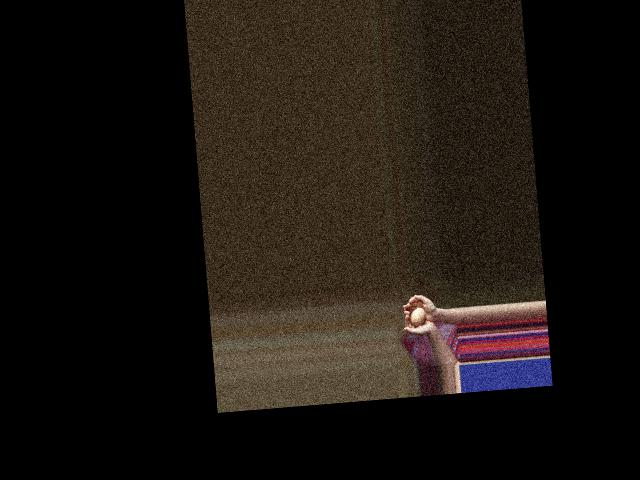egg: (409, 307, 426, 327)
